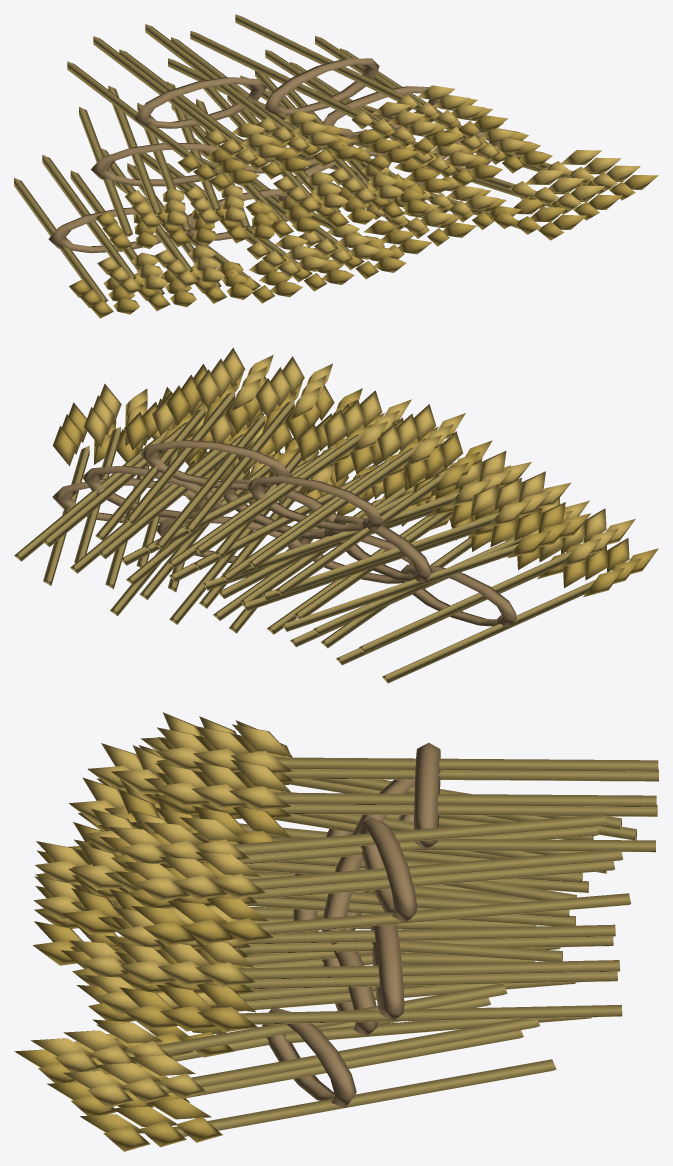
Rendered from pile-rice-9.gltf.
The picture shows the model from 3 angles, top to bottom: view 1: azimuth 30°, elevation 25°; view 2: azimuth 150°, elevation 25°; view 3: azimuth 270°, elevation 25°; orthographic projection. The views are drawn at different scales.
Visible parts, largest first — view 1: pile-rice-9; view 2: pile-rice-9; view 3: pile-rice-9.
Boxes of the visible parts, left/top/right/bottom form: pile-rice-9: left=14, top=14, right=658, bottom=318; pile-rice-9: left=14, top=347, right=658, bottom=683; pile-rice-9: left=14, top=712, right=658, bottom=1151.
Bounding box in the file's own units: 0.7921 × 0.1754 × 0.5662.
